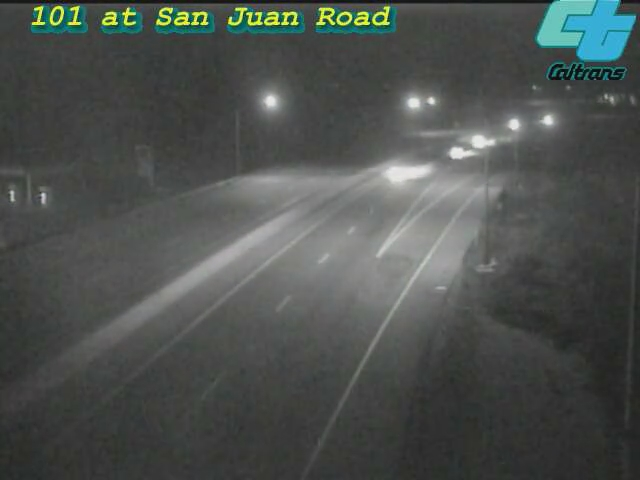vehicle: (357, 133, 437, 213), (490, 99, 540, 149), (521, 94, 571, 144), (457, 116, 507, 166), (433, 127, 483, 177)
